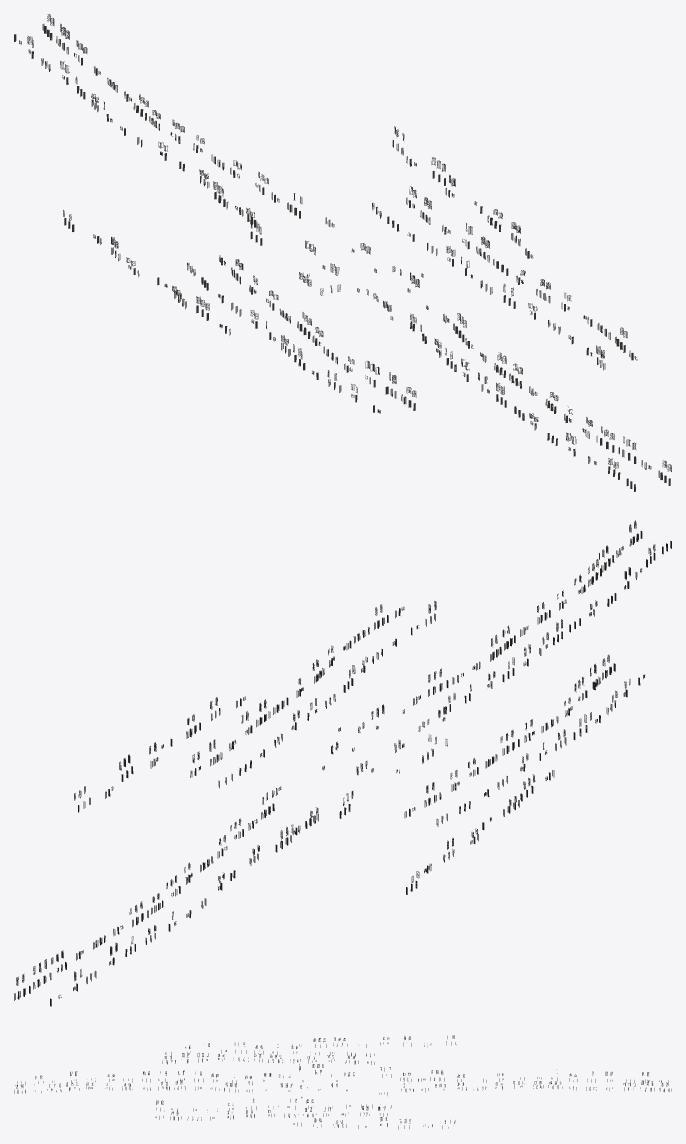
Rendered from canal_windows.glb.
3 views of the same model, one above another, from view 1: azimuth 30°, elevation 25°; view 2: azimuth 150°, elevation 25°; view 3: azimuth 270°, elevation 25° (orthographic). The views are drawn at different scales.
Parts seen in each view (by area): view 1: canal_windows1, canal_windows3, canal_windows2, canal_windows4, canal_windows5, canal_windows6, canal_windows0; view 2: canal_windows1, canal_windows3, canal_windows2, canal_windows4, canal_windows5, canal_windows6, canal_windows0; view 3: canal_windows1, canal_windows3, canal_windows2, canal_windows4, canal_windows5, canal_windows6, canal_windows0.
Part boxes in pixels (bbox=[...]): canal_windows1: bbox=[213, 171, 558, 430]; canal_windows3: bbox=[14, 14, 311, 356]; canal_windows2: bbox=[103, 94, 671, 491]; canal_windows4: bbox=[281, 186, 489, 413]; canal_windows5: bbox=[63, 210, 637, 370]; canal_windows6: bbox=[174, 126, 533, 335]; canal_windows0: bbox=[250, 217, 428, 320]; canal_windows1: bbox=[230, 602, 594, 852]; canal_windows3: bbox=[14, 729, 566, 1006]; canal_windows2: bbox=[129, 520, 671, 931]; canal_windows4: bbox=[190, 654, 644, 788]; canal_windows5: bbox=[259, 601, 519, 894]; canal_windows6: bbox=[74, 696, 554, 812]; canal_windows0: bbox=[272, 704, 447, 818]; canal_windows1: bbox=[109, 1070, 445, 1094]; canal_windows3: bbox=[254, 1044, 671, 1091]; canal_windows2: bbox=[14, 1071, 562, 1093]; canal_windows4: bbox=[162, 1042, 391, 1117]; canal_windows5: bbox=[155, 1035, 456, 1120]; canal_windows6: bbox=[292, 1037, 455, 1129]; canal_windows0: bbox=[263, 1064, 391, 1098].
Bounding box in the file's own units: 107 × 6.56 × 346.
Materials: 1 (1 with a texture image).
